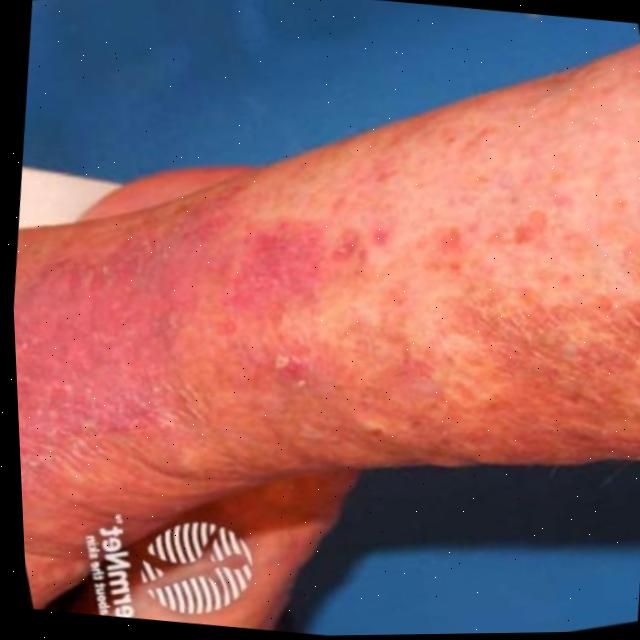Eczema: (7, 149, 640, 527)
